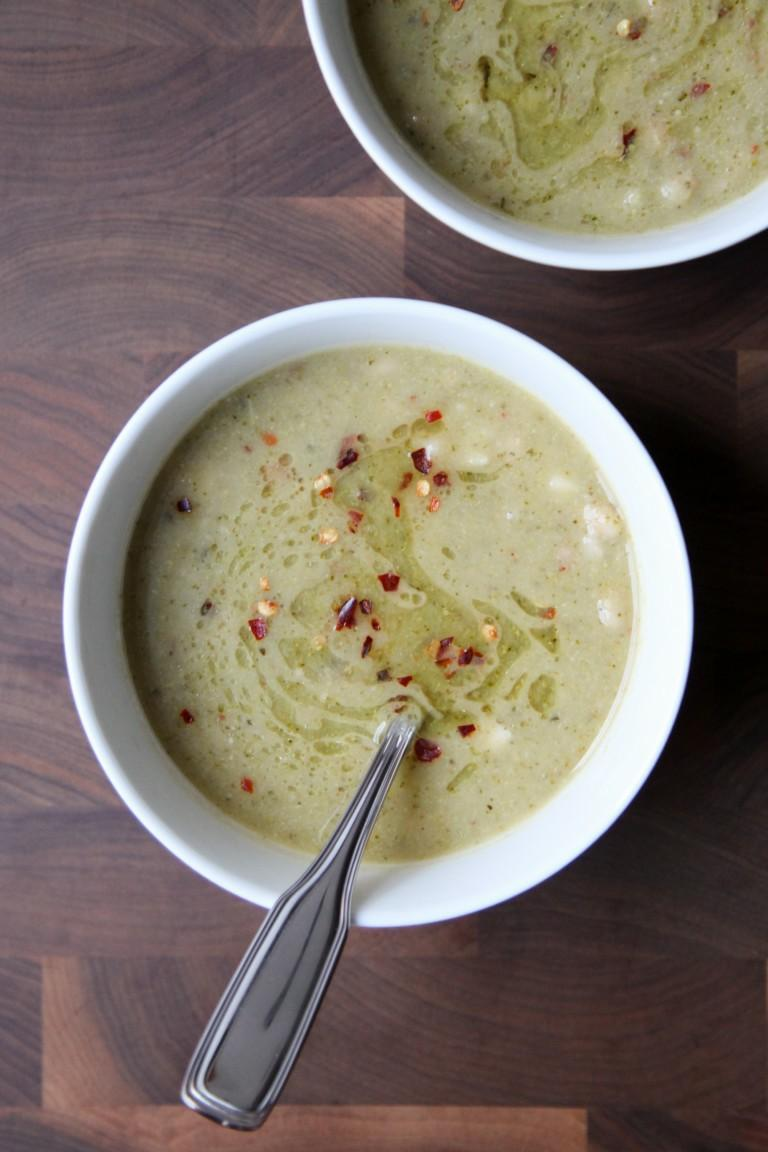Kheer: (132, 347, 628, 866), (362, 0, 768, 239)
